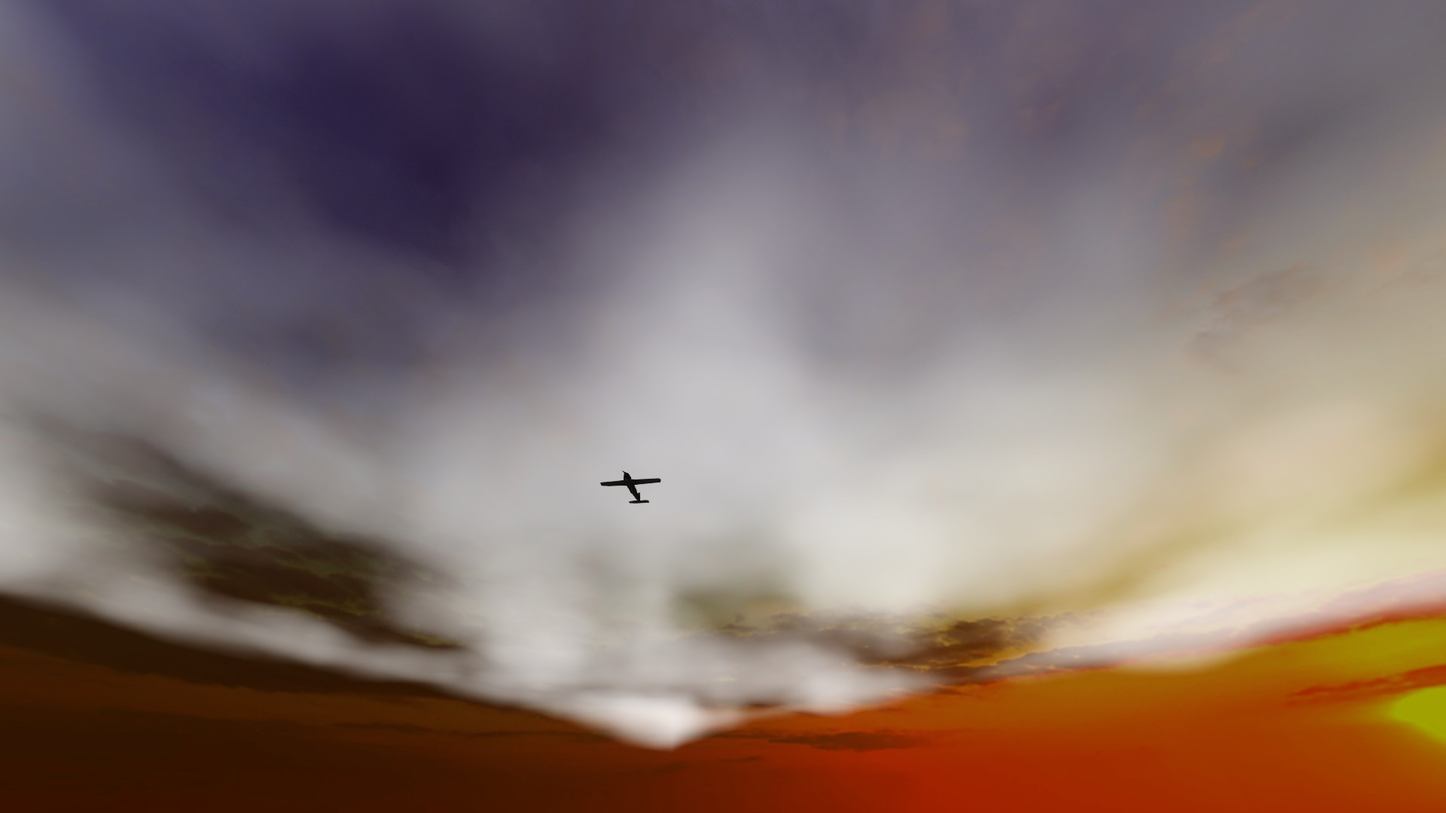drone_other: (600, 470, 661, 504)
